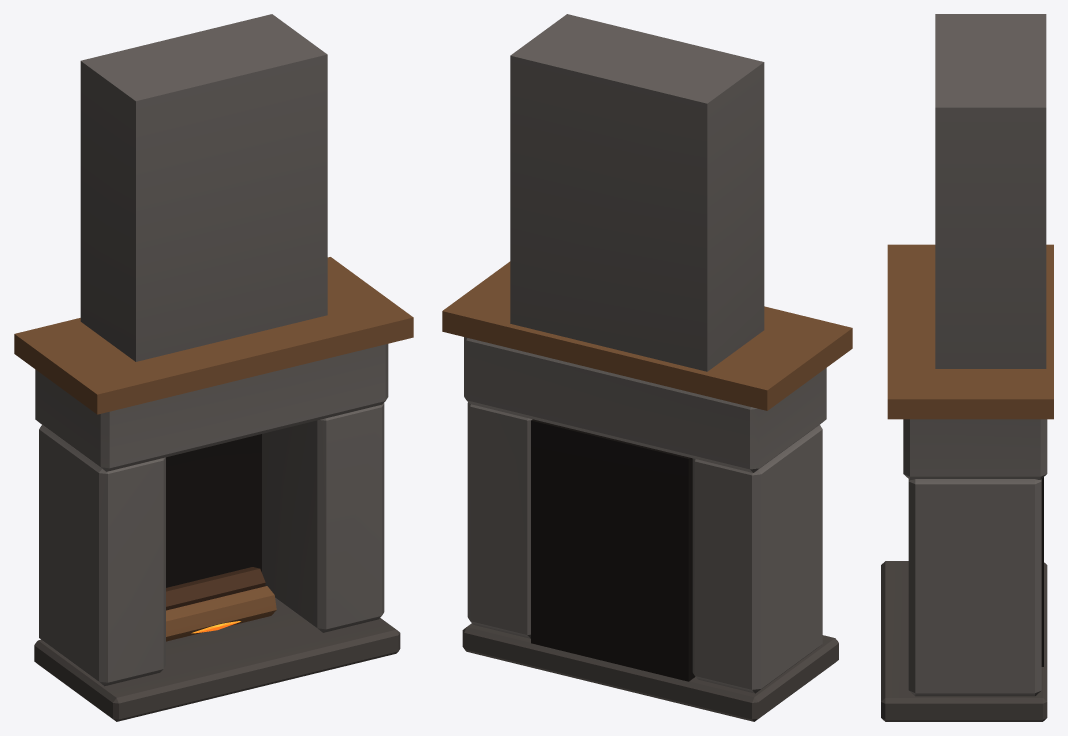
The model's file is fireplace.glb.
3 renders of one model, left to right at view 1: azimuth 30°, elevation 25°; view 2: azimuth 150°, elevation 25°; view 3: azimuth 270°, elevation 25°, orthographic. The views are drawn at different scales.
Parts seen in each view (by area): view 1: fireplace; view 2: fireplace; view 3: fireplace.
Boxes of the visible parts, left/top/right/bottom form: fireplace: left=14, top=14, right=413, bottom=721; fireplace: left=442, top=14, right=852, bottom=721; fireplace: left=881, top=14, right=1053, bottom=721.
Size of the model in its own units: 1.65 by 2.95 by 0.78.
